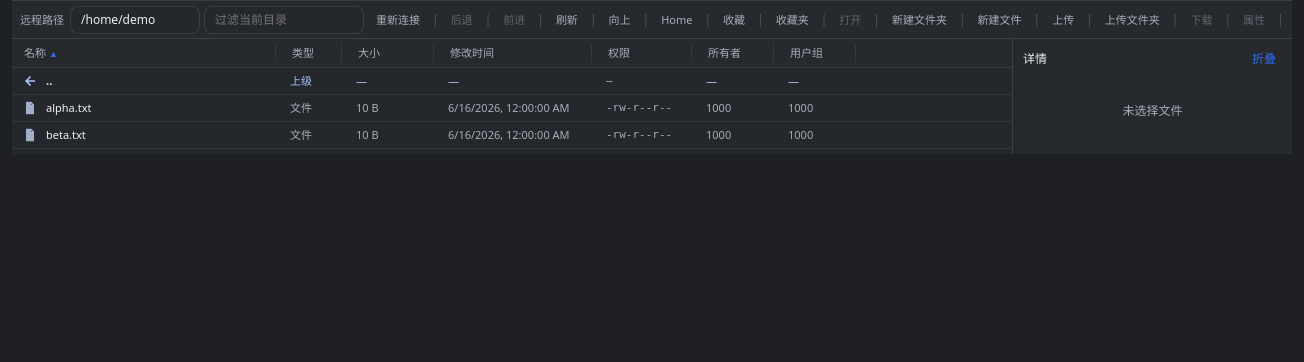
Test case: SftpPanel › shows filter status no-match state and clear button without restoring old selection
The image size is (1304, 362).
Click the button with test id "sftp-entry-row" that starts with "alpha.txt" at {"x": 512, "y": 108}, box [12, 95, 1012, 122]
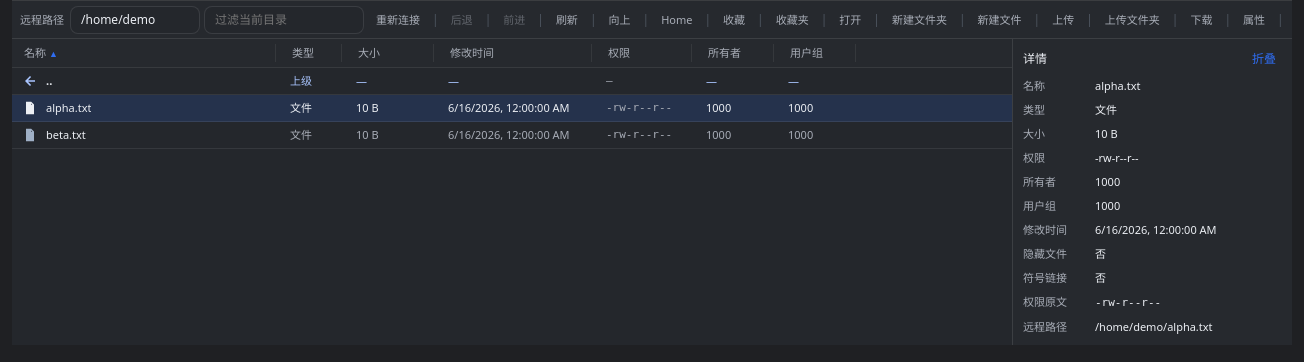
Type "missing" into the search field with test id "sftp-file-filter" at {"x": 284, "y": 20}, box [204, 6, 364, 34]
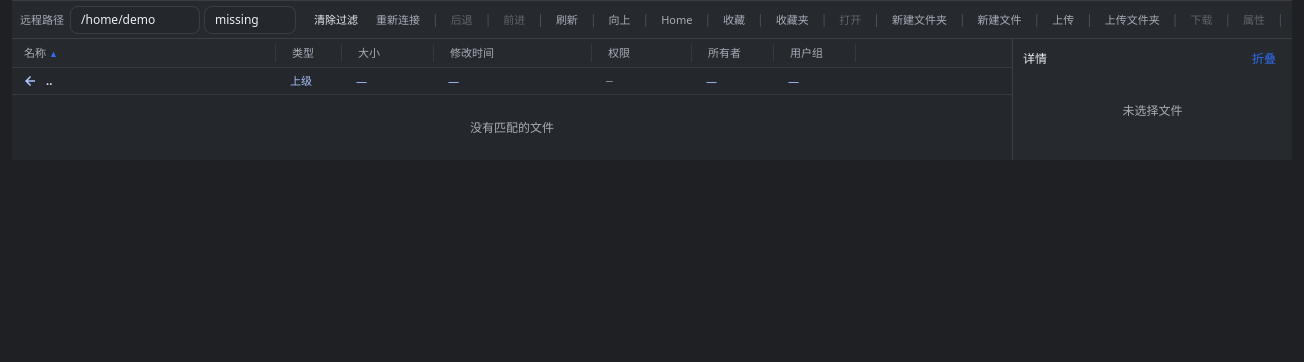
Result: the text with test id "sftp-filter-empty" reads "没有匹配的文件" at [470, 119, 554, 136]
Click the button with test id "sftp-file-filter-clear" at {"x": 336, "y": 19}, box [306, 6, 366, 32]
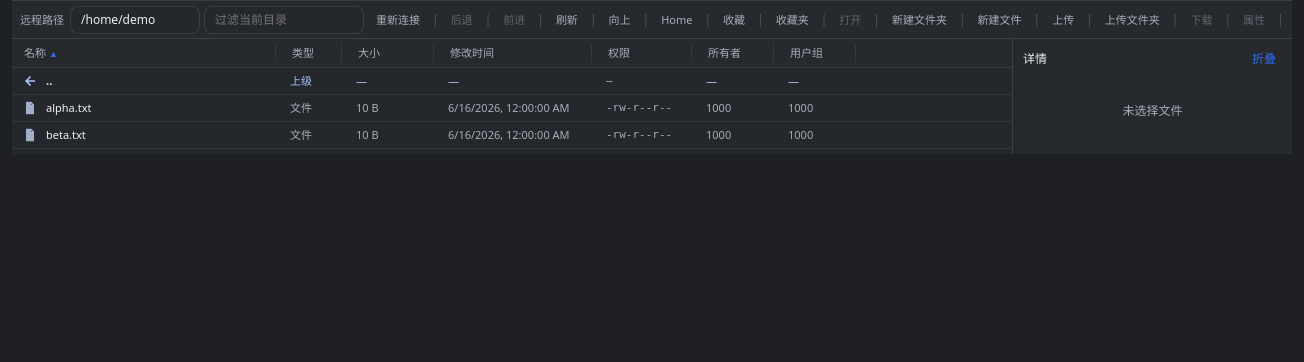
Result: the search field with test id "sftp-file-filter" is empty at [204, 6, 364, 34]
